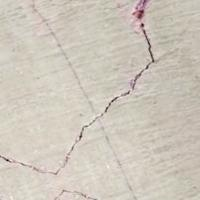crack: (0, 0, 167, 184)
